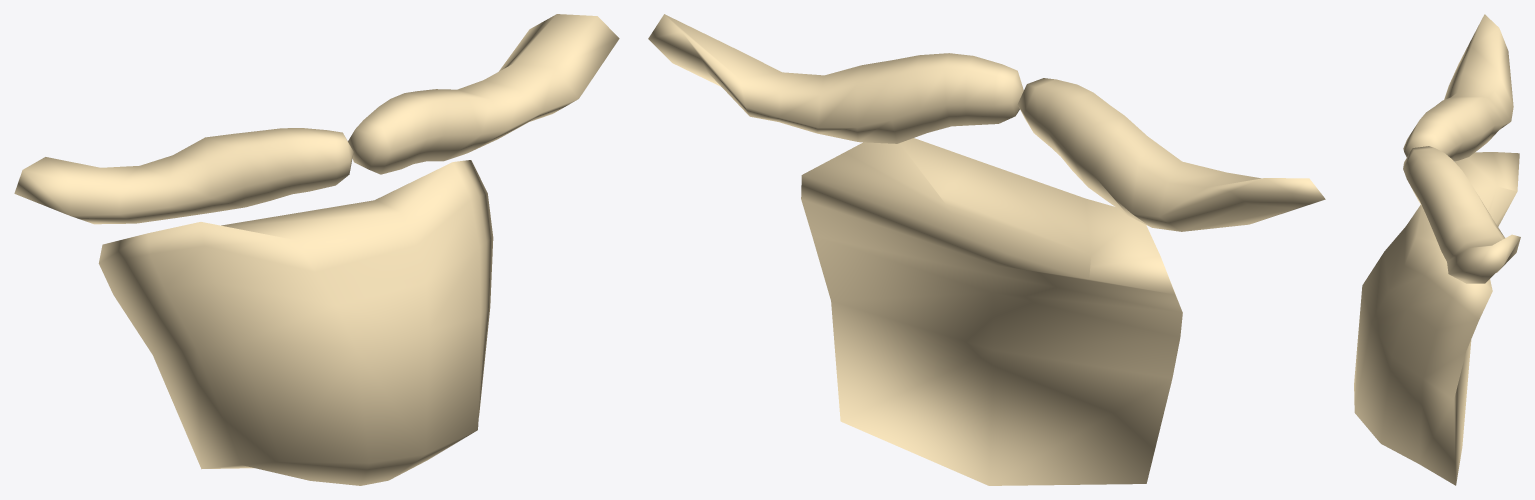
Rendered from gloriousMoustache.fbx.
The picture shows the model from 3 angles, left to right: view 1: azimuth 30°, elevation 25°; view 2: azimuth 150°, elevation 25°; view 3: azimuth 270°, elevation 25°; orthographic projection. The views are drawn at different scales.
Visible parts, largest first — view 1: gloriousMoustaches; view 2: gloriousMoustaches; view 3: gloriousMoustaches.
Part boxes in pixels (x1,y1,x2,y2): gloriousMoustaches: (14, 14, 619, 485); gloriousMoustaches: (648, 14, 1325, 485); gloriousMoustaches: (1354, 14, 1520, 485).
Bounding box in the file's own units: 34.45 × 20.2 × 9.67.
